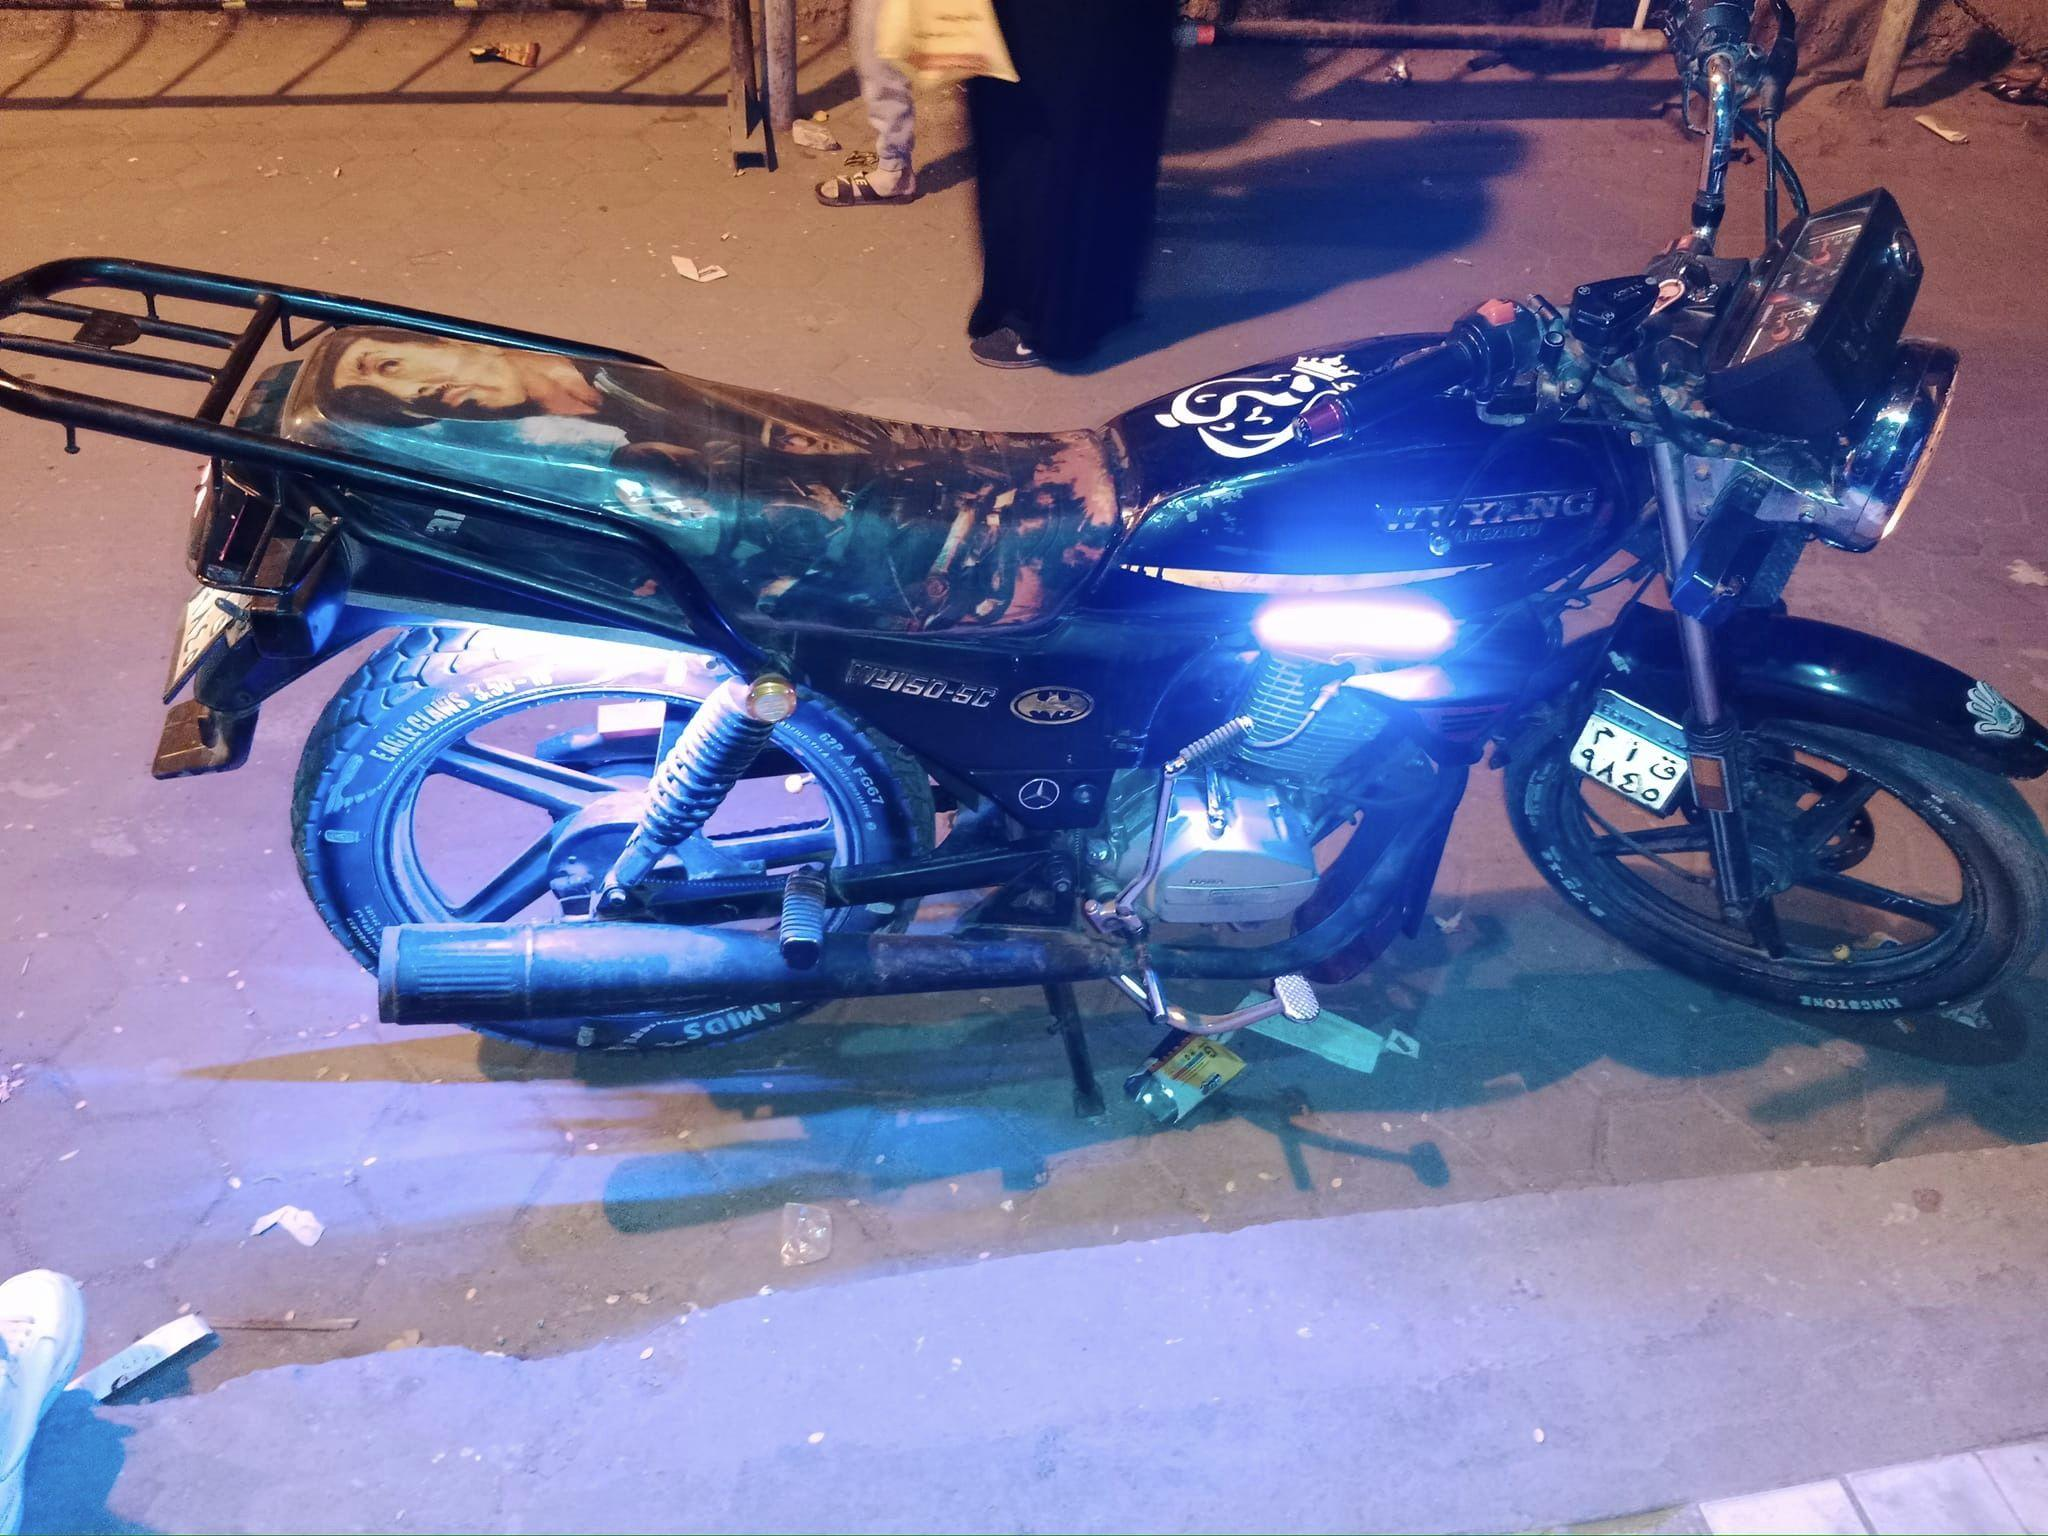License Plate: (1569, 688, 1704, 815)
